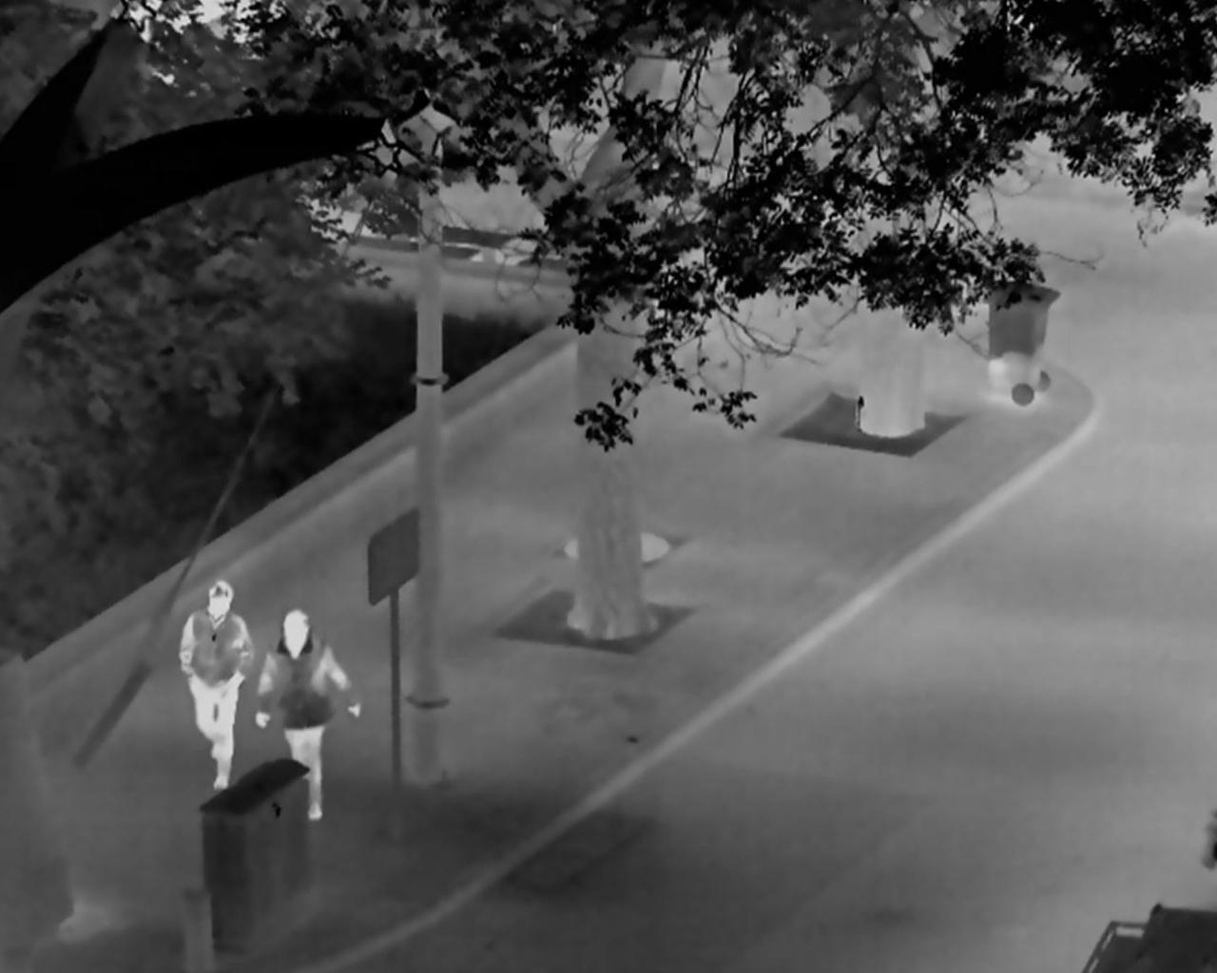person: (254, 609, 362, 821), (178, 580, 255, 792)
